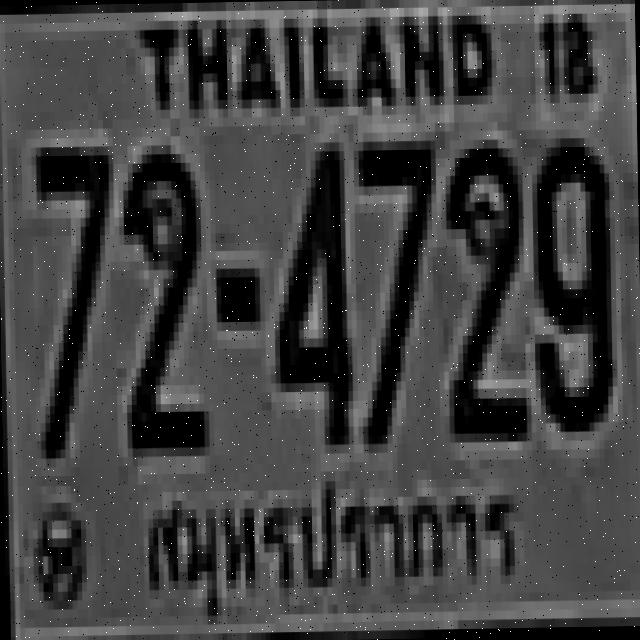2: (123, 148, 205, 451), (446, 140, 528, 434)
4: (274, 137, 351, 440)
7: (31, 141, 112, 453), (353, 136, 435, 439)
9: (530, 136, 612, 432)
SamutPrakan: (134, 465, 526, 614)
